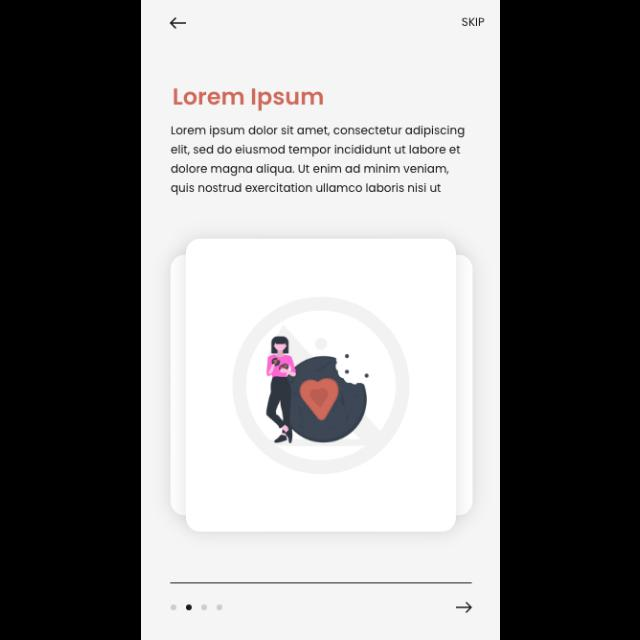icon: (456, 600, 472, 614), (168, 18, 186, 30)
image: (232, 297, 410, 475)
pageindicator: (170, 604, 223, 610)
text: (170, 126, 466, 197), (173, 88, 323, 112), (461, 18, 484, 28)
